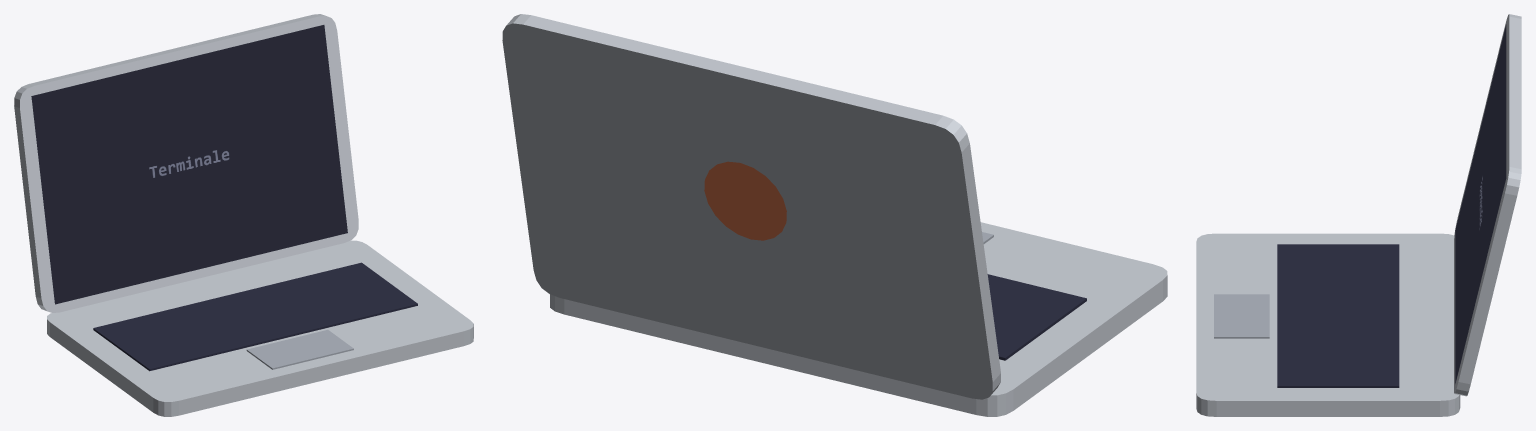
Rendered from portatile_agente.glb.
3 renders of one model, left to right at view 1: azimuth 30°, elevation 25°; view 2: azimuth 150°, elevation 25°; view 3: azimuth 270°, elevation 25°, orthographic. The views are drawn at different scales.
Visible parts, largest first — view 1: Portatile_agente; view 2: Portatile_agente; view 3: Portatile_agente.
Boxes of the visible parts, x1,y1,x2,y2 form: Portatile_agente: (14,14,473,416); Portatile_agente: (502,14,1167,416); Portatile_agente: (1196,14,1521,416).
Bounding box in the file's own units: 0.78 × 0.5252 × 0.6413.
Materials: 5 (1 with a texture image).
